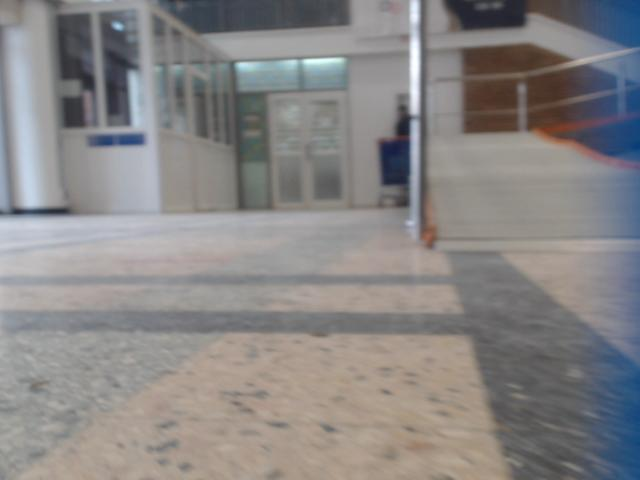rampUp: (427, 133, 639, 241)
ramps-railing: (432, 47, 639, 131), (531, 61, 639, 118), (409, 0, 427, 239)
